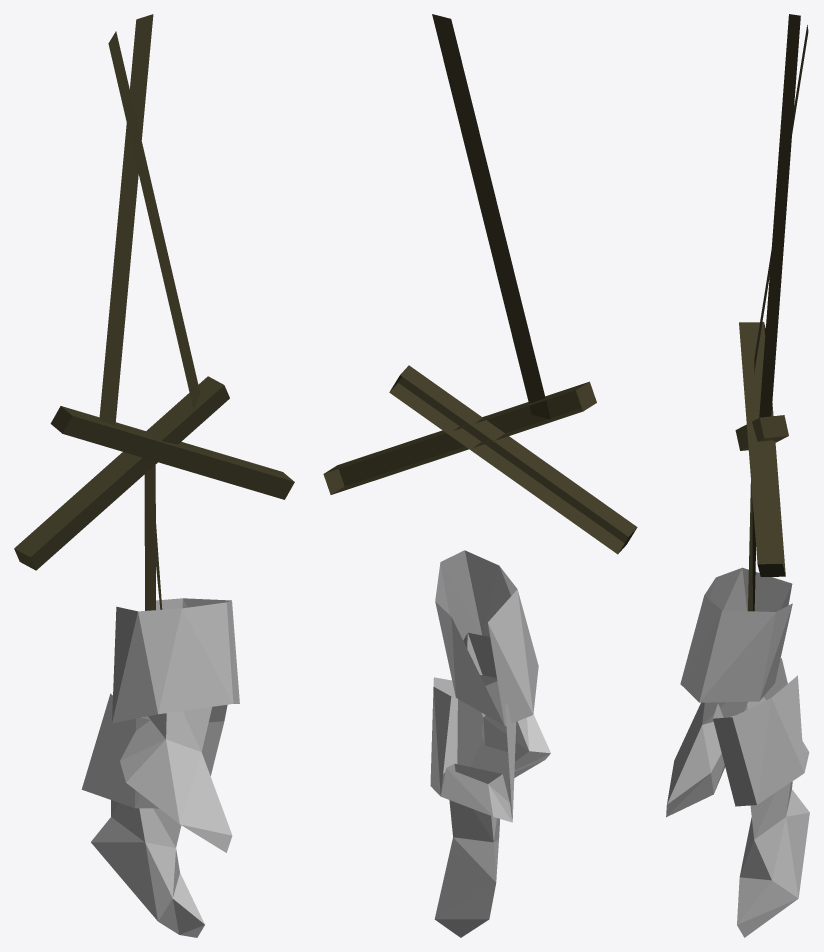
The model's file is OC_WEAPON_ARMORSHOES.OBJ.
3 views of the same model, side by side, from view 1: azimuth 30°, elevation 25°; view 2: azimuth 150°, elevation 25°; view 3: azimuth 270°, elevation 25° (orthographic). The views are drawn at different scales.
Visible parts, largest first — view 1: OC_WEAPON_ARMORSHOES; view 2: OC_WEAPON_ARMORSHOES; view 3: OC_WEAPON_ARMORSHOES.
Boxes of the visible parts, box(x1,y1,x2,y2) form: OC_WEAPON_ARMORSHOES: box(14, 14, 294, 937); OC_WEAPON_ARMORSHOES: box(323, 14, 637, 937); OC_WEAPON_ARMORSHOES: box(666, 14, 809, 937).
Bounding box in the file's own units: 1.03 × 3.18 × 0.4606.
